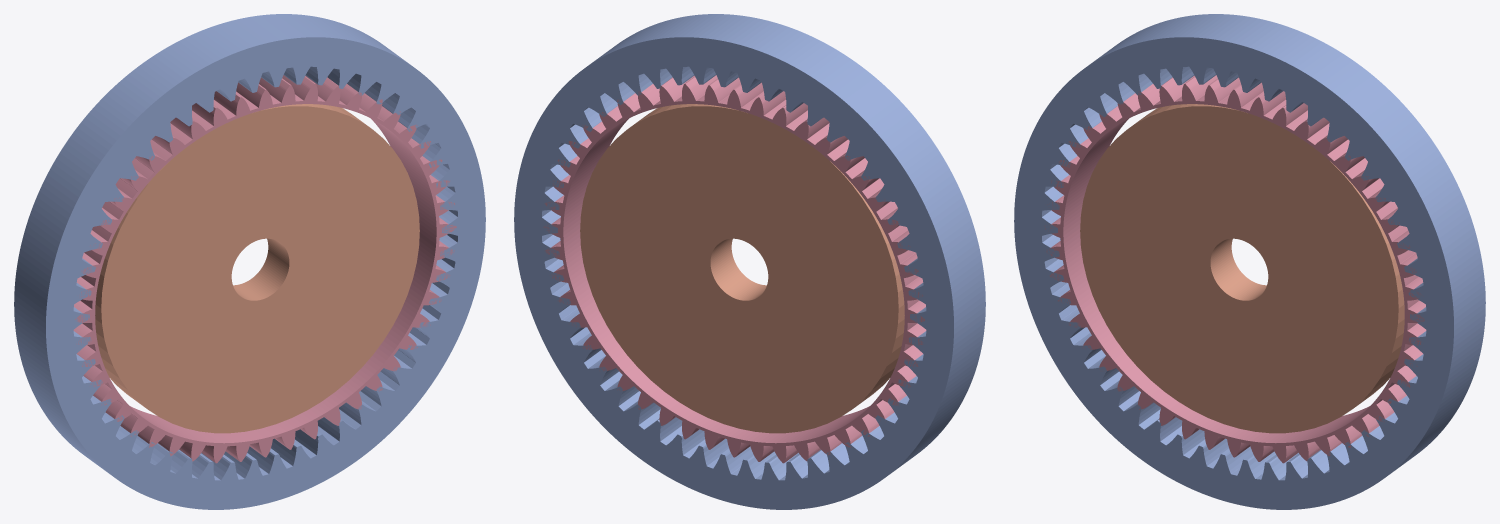
File: harmonic_drive_demo.glb
3 views of the same model, side by side, from view 1: azimuth 30°, elevation 25°; view 2: azimuth 150°, elevation 25°; view 3: azimuth 330°, elevation 25° (orthographic).
Parts seen in each view (by area): view 1: wave_generator, circular_spline, flex_spline; view 2: wave_generator, circular_spline, flex_spline; view 3: wave_generator, circular_spline, flex_spline.
Boxes of the visible parts, bbox=[...] form: wave_generator: bbox=[95, 104, 419, 433]; circular_spline: bbox=[14, 14, 485, 509]; flex_spline: bbox=[73, 75, 456, 463]; wave_generator: bbox=[580, 104, 904, 433]; circular_spline: bbox=[514, 14, 985, 509]; flex_spline: bbox=[543, 75, 926, 463]; wave_generator: bbox=[1080, 104, 1404, 433]; circular_spline: bbox=[1014, 14, 1485, 509]; flex_spline: bbox=[1044, 75, 1426, 463].
Bounding box in the file's own units: 48 × 48 × 6.
